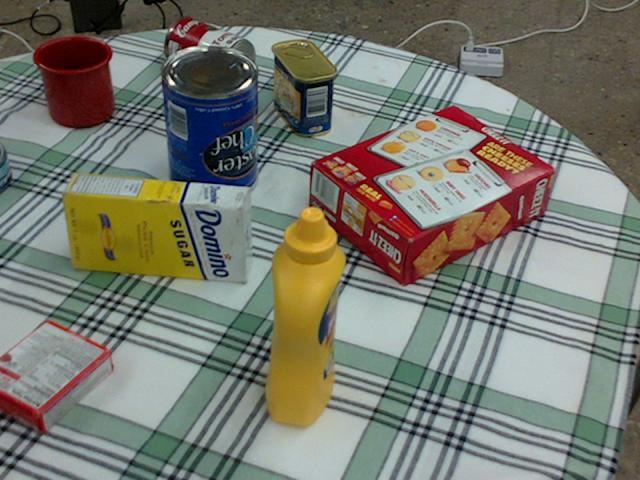cracker_box: (311, 106, 554, 286)
gelatin_box: (0, 319, 112, 432)
master_chef_can: (158, 45, 256, 202)
mug: (35, 35, 115, 125)
mustard_bottle: (265, 207, 345, 424)
potted_meat_can: (270, 39, 335, 136)
sugar_box: (61, 172, 250, 282)
tomato_soup_can: (164, 16, 253, 86)
tuna_fish_can: (0, 142, 11, 190)
